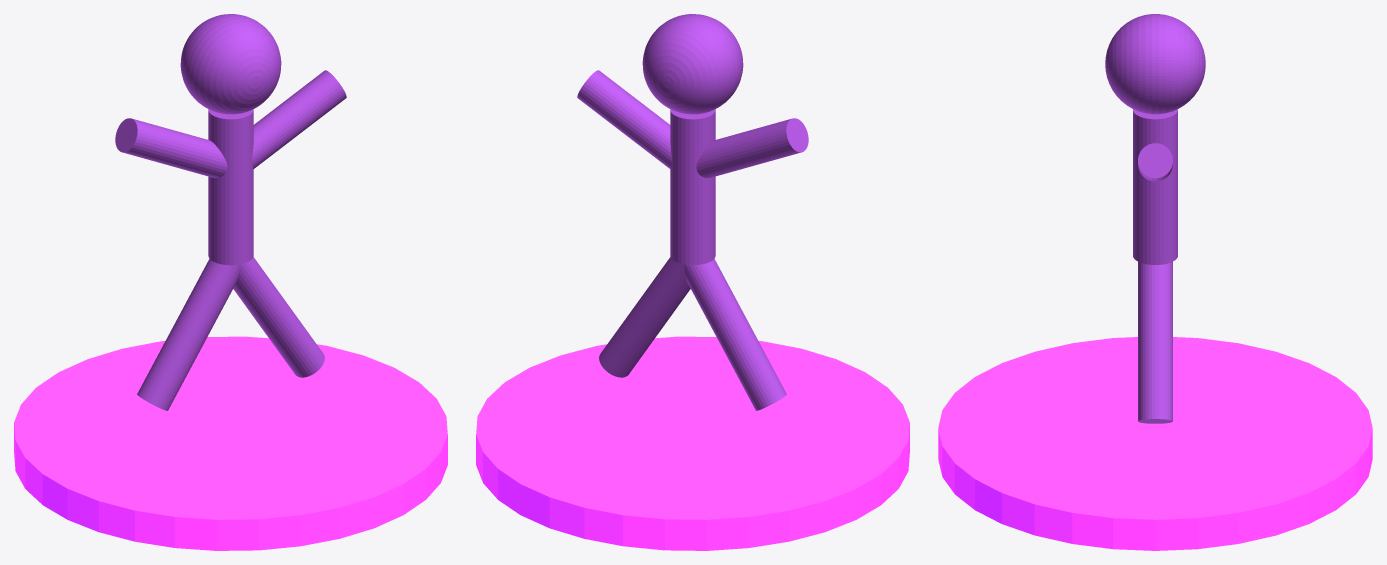
File: modelling_model_pose.glb
The picture shows the model from 3 angles, left to right: view 1: azimuth 30°, elevation 25°; view 2: azimuth 150°, elevation 25°; view 3: azimuth 270°, elevation 25°; orthographic projection.
Visible parts, largest first — view 1: 05_17_Popular_Modelling_Model_Pose_ROOT_base, 05_17_Popular_Modelling_Model_Pose_part_01, 05_17_Popular_Modelling_Model_Pose_part_02, 05_17_Popular_Modelling_Model_Pose_part_06, 05_17_Popular_Modelling_Model_Pose_part_05, 05_17_Popular_Modelling_Model_Pose_part_04, 05_17_Popular_Modelling_Model_Pose_part_03; view 2: 05_17_Popular_Modelling_Model_Pose_ROOT_base, 05_17_Popular_Modelling_Model_Pose_part_01, 05_17_Popular_Modelling_Model_Pose_part_02, 05_17_Popular_Modelling_Model_Pose_part_06, 05_17_Popular_Modelling_Model_Pose_part_05, 05_17_Popular_Modelling_Model_Pose_part_04, 05_17_Popular_Modelling_Model_Pose_part_03; view 3: 05_17_Popular_Modelling_Model_Pose_ROOT_base, 05_17_Popular_Modelling_Model_Pose_part_01, 05_17_Popular_Modelling_Model_Pose_part_02, 05_17_Popular_Modelling_Model_Pose_part_05, 05_17_Popular_Modelling_Model_Pose_part_03.
Boxes of the visible parts, x1,y1,x2,y2 form: 05_17_Popular_Modelling_Model_Pose_ROOT_base: (14,336,447,550); 05_17_Popular_Modelling_Model_Pose_part_01: (180,14,281,114); 05_17_Popular_Modelling_Model_Pose_part_02: (208,109,253,265); 05_17_Popular_Modelling_Model_Pose_part_06: (137,259,239,410); 05_17_Popular_Modelling_Model_Pose_part_05: (233,257,324,377); 05_17_Popular_Modelling_Model_Pose_part_04: (115,118,227,178); 05_17_Popular_Modelling_Model_Pose_part_03: (252,70,346,168); 05_17_Popular_Modelling_Model_Pose_ROOT_base: (476,336,909,550); 05_17_Popular_Modelling_Model_Pose_part_01: (642,14,743,114); 05_17_Popular_Modelling_Model_Pose_part_02: (670,109,715,265); 05_17_Popular_Modelling_Model_Pose_part_06: (684,259,786,410); 05_17_Popular_Modelling_Model_Pose_part_05: (599,257,690,377); 05_17_Popular_Modelling_Model_Pose_part_04: (696,118,808,178); 05_17_Popular_Modelling_Model_Pose_part_03: (577,70,671,168); 05_17_Popular_Modelling_Model_Pose_ROOT_base: (938,337,1372,550); 05_17_Popular_Modelling_Model_Pose_part_01: (1105,14,1205,114); 05_17_Popular_Modelling_Model_Pose_part_02: (1133,109,1177,264); 05_17_Popular_Modelling_Model_Pose_part_05: (1138,261,1172,423); 05_17_Popular_Modelling_Model_Pose_part_03: (1138,143,1172,181).
Bounding box in the file's own units: 0.76 × 0.85 × 0.76.
